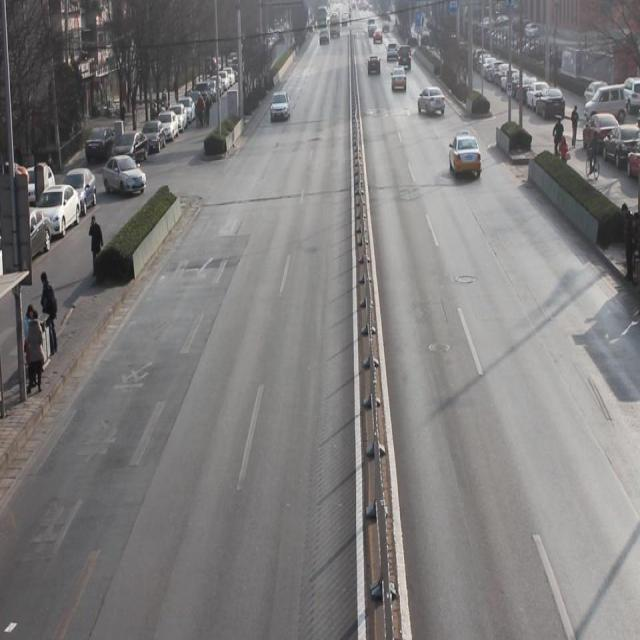car: (449, 134, 483, 182), (417, 84, 447, 120), (271, 89, 291, 124), (390, 66, 410, 99), (367, 54, 381, 80), (387, 42, 400, 67)
truck: (397, 46, 413, 75)
